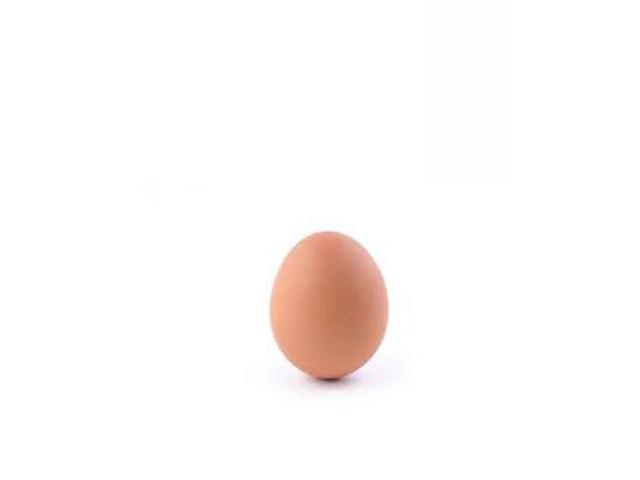egg: (270, 231, 390, 378)
